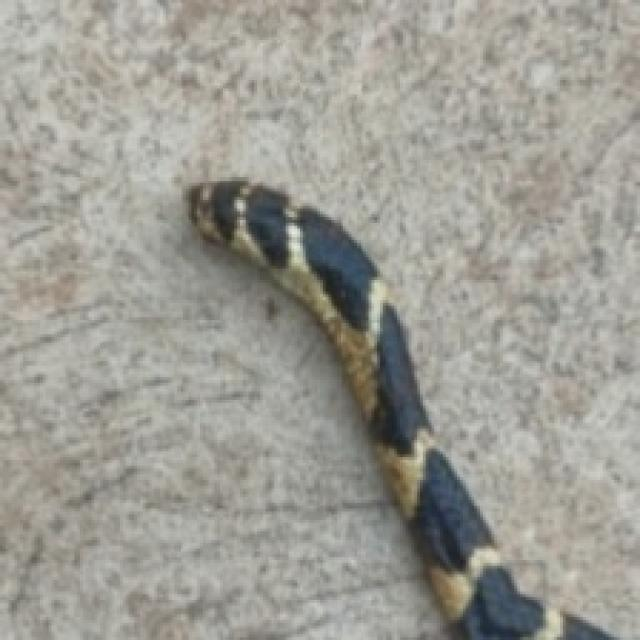king cobra: (189, 177, 611, 637)
